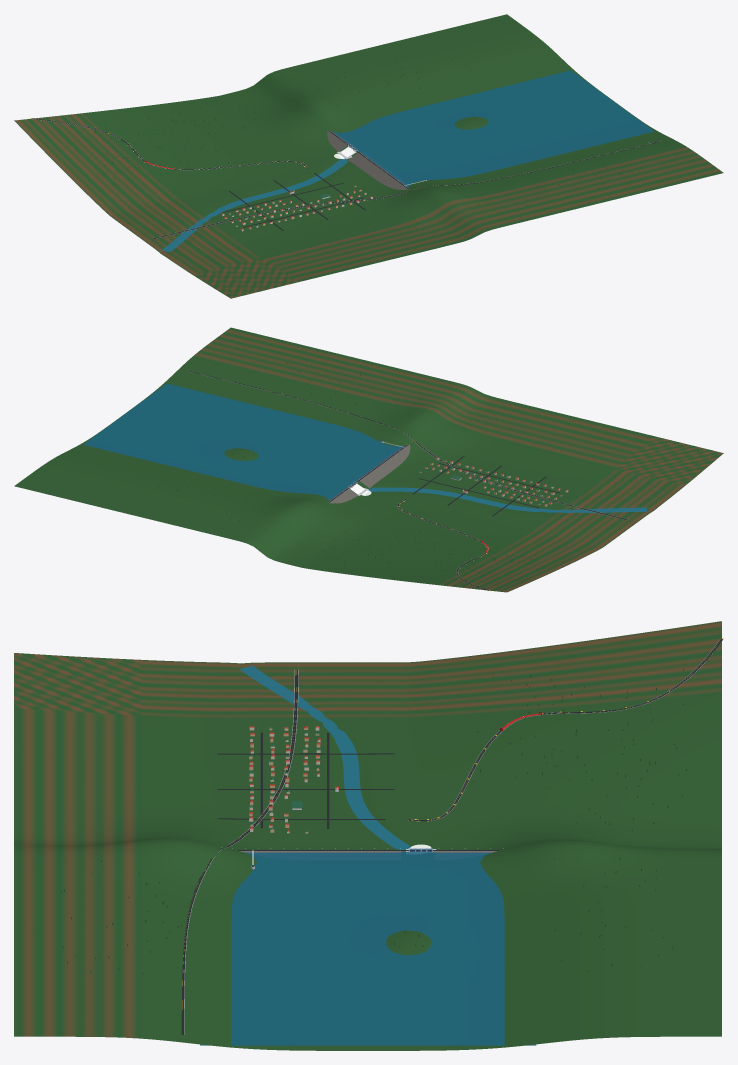
The model's file is ring3_w3_don_duong_dran_town_and_da_nhim_dam.glb.
3 views of the same model, one above another, from view 1: azimuth 30°, elevation 25°; view 2: azimuth 150°, elevation 25°; view 3: azimuth 270°, elevation 25° (orthographic). The views are drawn at different scales.
Visible parts, largest first — view 1: Terrain_DonDuong_DRan_And_DaNhim_Basin, Water_HoDaNhim_Reservoir_1042m_Blend85, Roads_DRan_Pass_QL20_QL27_And_DamCrest, Water_Lower_DaNhim_River_1002m_Blend85, Structure_DaNhim_Main_EarthRockfill_Dam_1500m, Roads_Guardrails_And_Bridges_Concrete; view 2: Terrain_DonDuong_DRan_And_DaNhim_Basin, Water_HoDaNhim_Reservoir_1042m_Blend85, Roads_DRan_Pass_QL20_QL27_And_DamCrest, Water_Lower_DaNhim_River_1002m_Blend85, Structure_DaNhim_Main_EarthRockfill_Dam_1500m; view 3: Terrain_DonDuong_DRan_And_DaNhim_Basin, Water_HoDaNhim_Reservoir_1042m_Blend85, Roads_DRan_Pass_QL20_QL27_And_DamCrest, Water_Lower_DaNhim_River_1002m_Blend85, Roads_Guardrails_And_Bridges_Concrete.
Part boxes in pixels (bbox=[...]): Terrain_DonDuong_DRan_And_DaNhim_Basin: bbox=[14, 14, 723, 298]; Water_HoDaNhim_Reservoir_1042m_Blend85: bbox=[333, 70, 654, 187]; Roads_DRan_Pass_QL20_QL27_And_DamCrest: bbox=[31, 118, 662, 238]; Water_Lower_DaNhim_River_1002m_Blend85: bbox=[162, 159, 347, 252]; Structure_DaNhim_Main_EarthRockfill_Dam_1500m: bbox=[327, 131, 408, 189]; Roads_Guardrails_And_Bridges_Concrete: bbox=[32, 119, 661, 238]; Terrain_DonDuong_DRan_And_DaNhim_Basin: bbox=[14, 327, 723, 592]; Water_HoDaNhim_Reservoir_1042m_Blend85: bbox=[83, 383, 404, 500]; Roads_DRan_Pass_QL20_QL27_And_DamCrest: bbox=[188, 371, 627, 590]; Water_Lower_DaNhim_River_1002m_Blend85: bbox=[368, 487, 646, 512]; Structure_DaNhim_Main_EarthRockfill_Dam_1500m: bbox=[329, 444, 410, 503]; Terrain_DonDuong_DRan_And_DaNhim_Basin: bbox=[14, 621, 721, 1050]; Water_HoDaNhim_Reservoir_1042m_Blend85: bbox=[200, 852, 536, 1045]; Roads_DRan_Pass_QL20_QL27_And_DamCrest: bbox=[181, 639, 722, 1034]; Water_Lower_DaNhim_River_1002m_Blend85: bbox=[239, 665, 410, 849]; Roads_Guardrails_And_Bridges_Concrete: bbox=[184, 639, 723, 1034].
Size of the model in its own units: 4200 by 213 by 3209.
22 materials, 2 textured.
